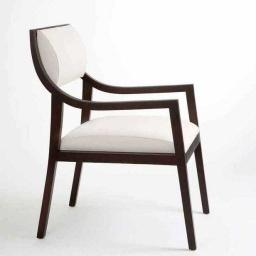Chair: (27, 28, 209, 252)
